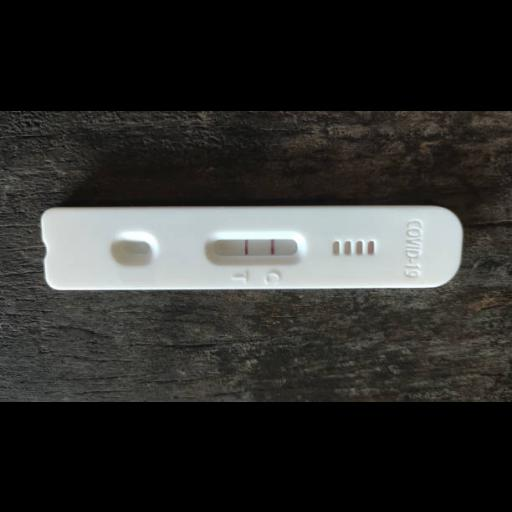Pos: (42, 206, 458, 286)
